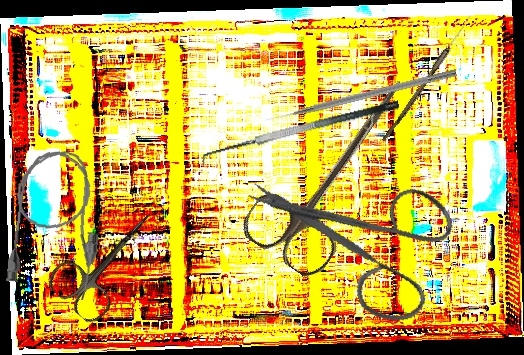Cannula: (5, 146, 107, 301)
Hook Surgical: (263, 67, 458, 125)
Iris Scissors: (241, 134, 474, 353), (236, 52, 435, 284), (43, 191, 176, 328)
Spatula Surgical: (198, 99, 404, 172)
Surgical Spoon: (381, 13, 474, 144)
